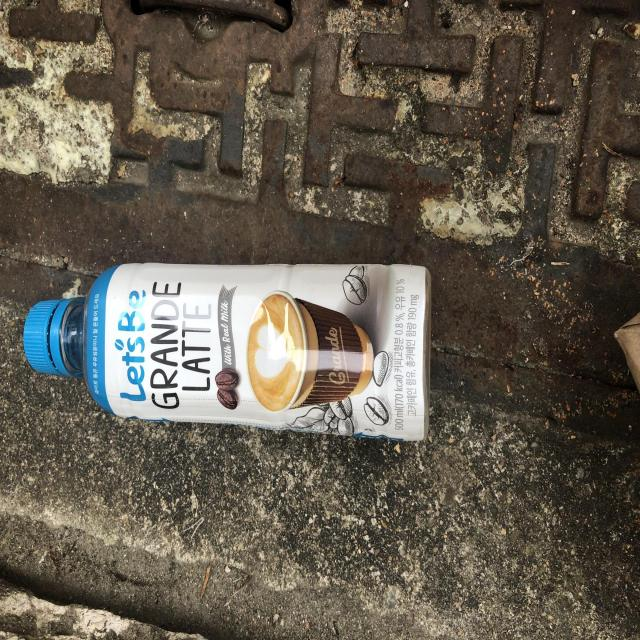plastic: (22, 263, 431, 440)
